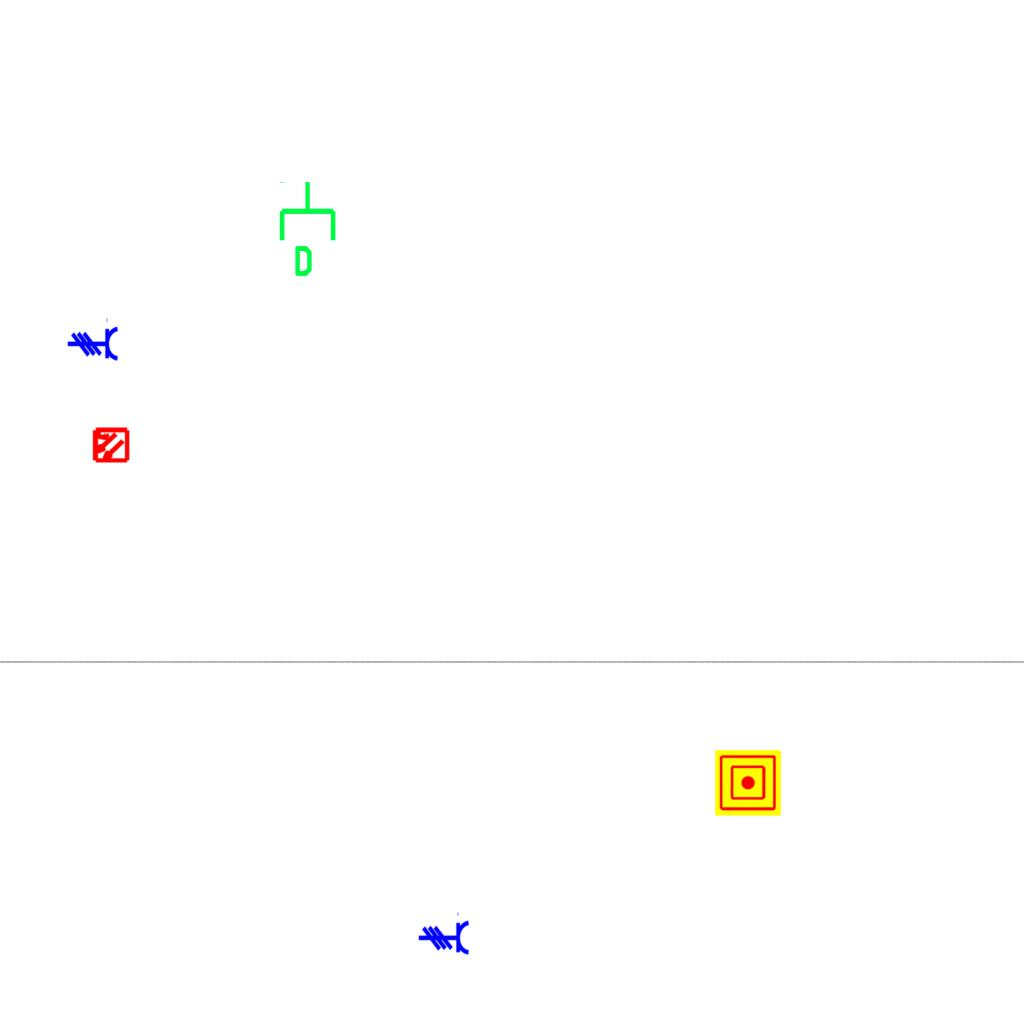CEE_Drehstrom_Steckdose_16_32_A: (418, 911, 470, 956), (67, 317, 119, 362)
Datenanschluss_einfach: (275, 179, 344, 279)
NAM-Nichtautomatischer_Melder: (715, 750, 781, 816)
OT_Multisensormelder_(Kombination_RMO_WMD): (82, 417, 138, 473)
